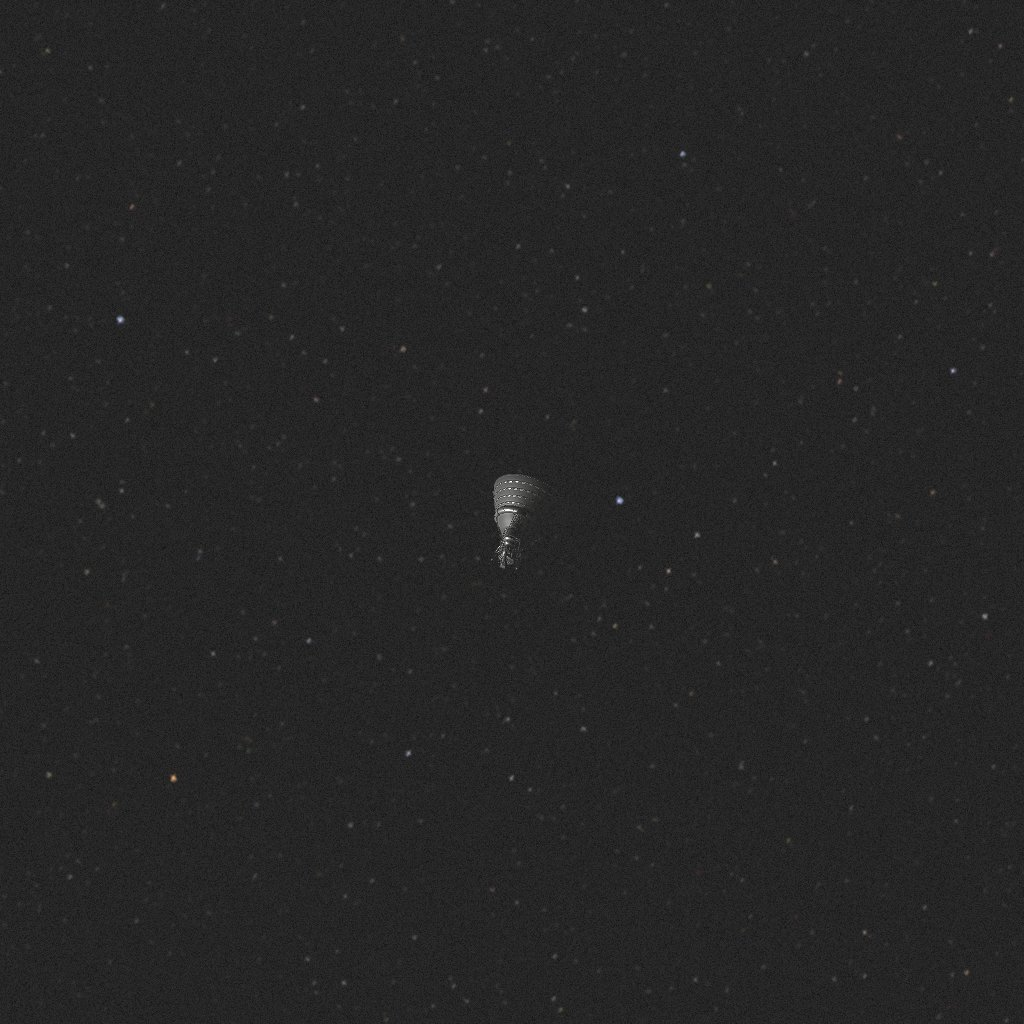debris: (490, 474, 569, 571)
